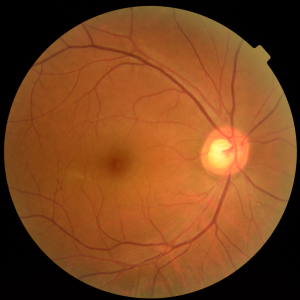glaucoma: (62, 84, 264, 212)
